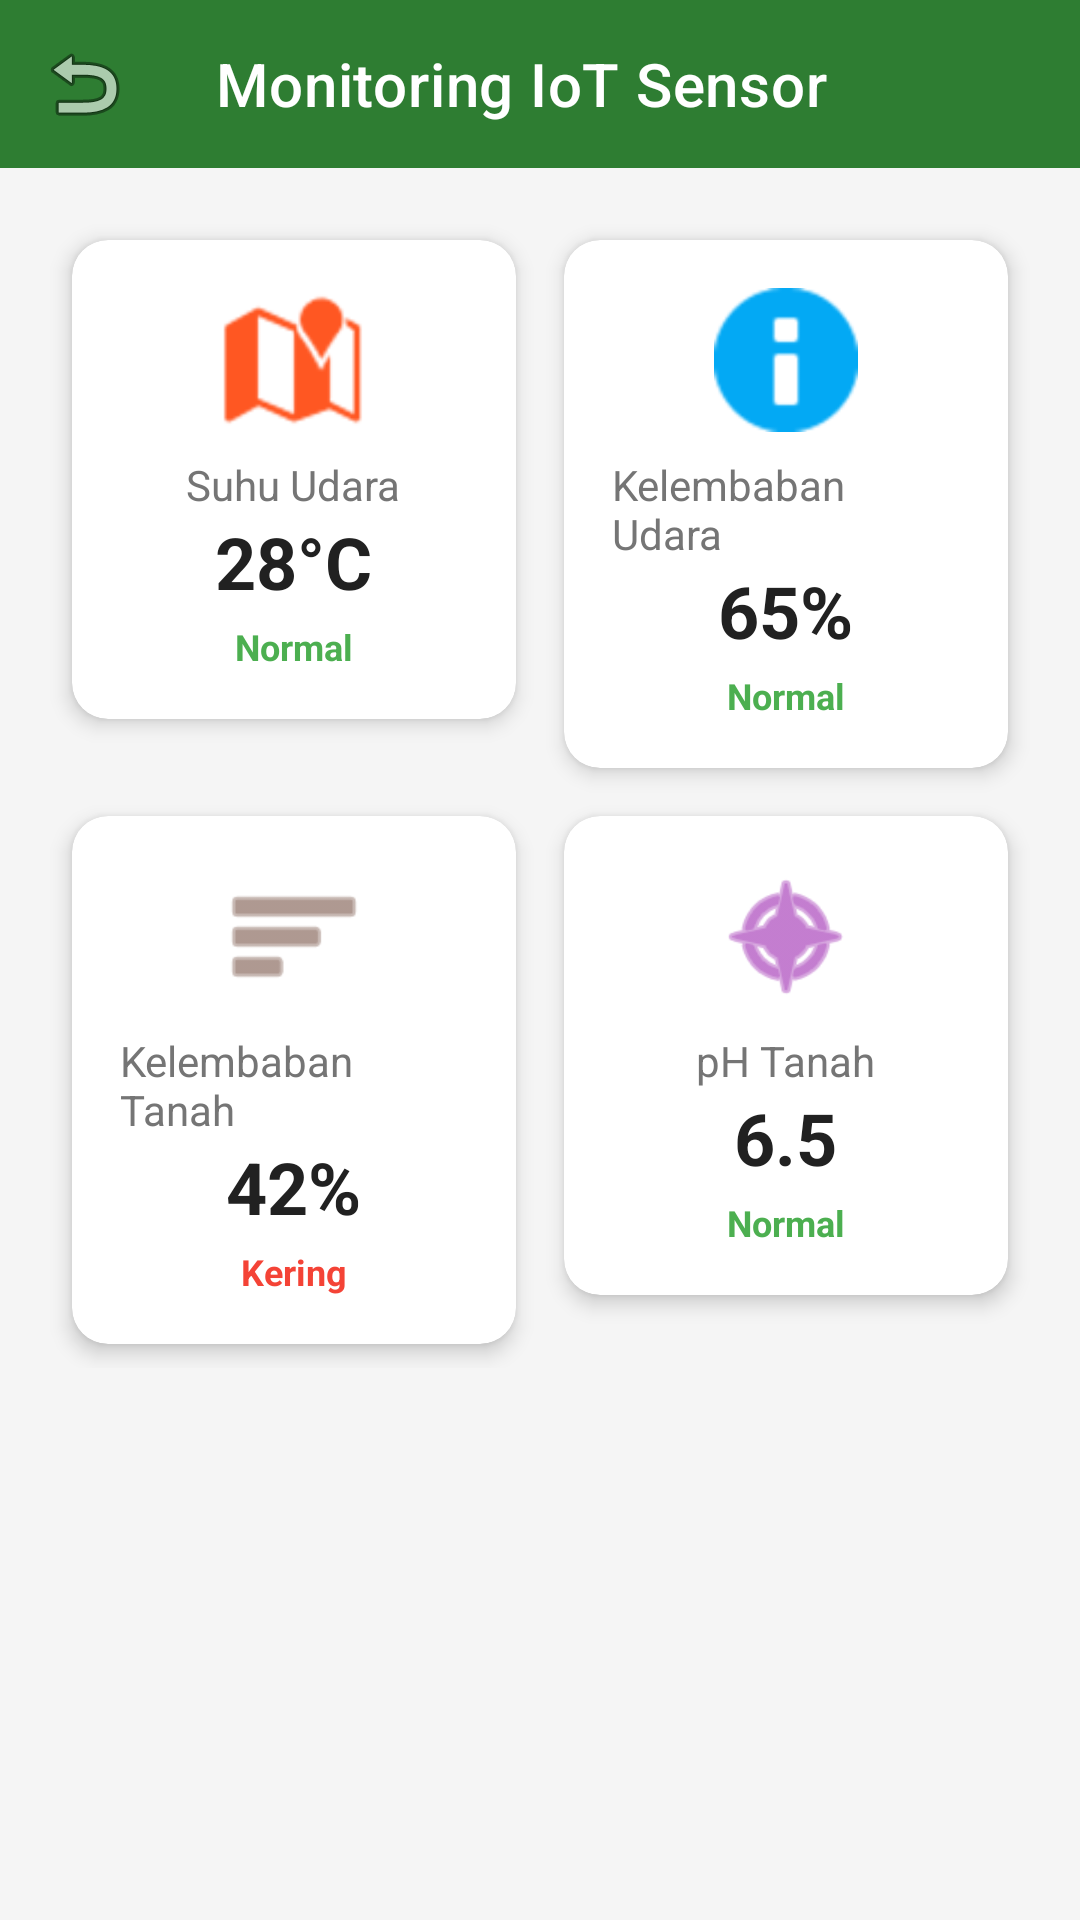

Icons on this 1080x1920 Android screen, each with the point to tap as (x=x, y=y):
compass: (x=785, y=936)
info: (x=786, y=360)
map: (x=293, y=360)
sort by size: (x=294, y=936)
